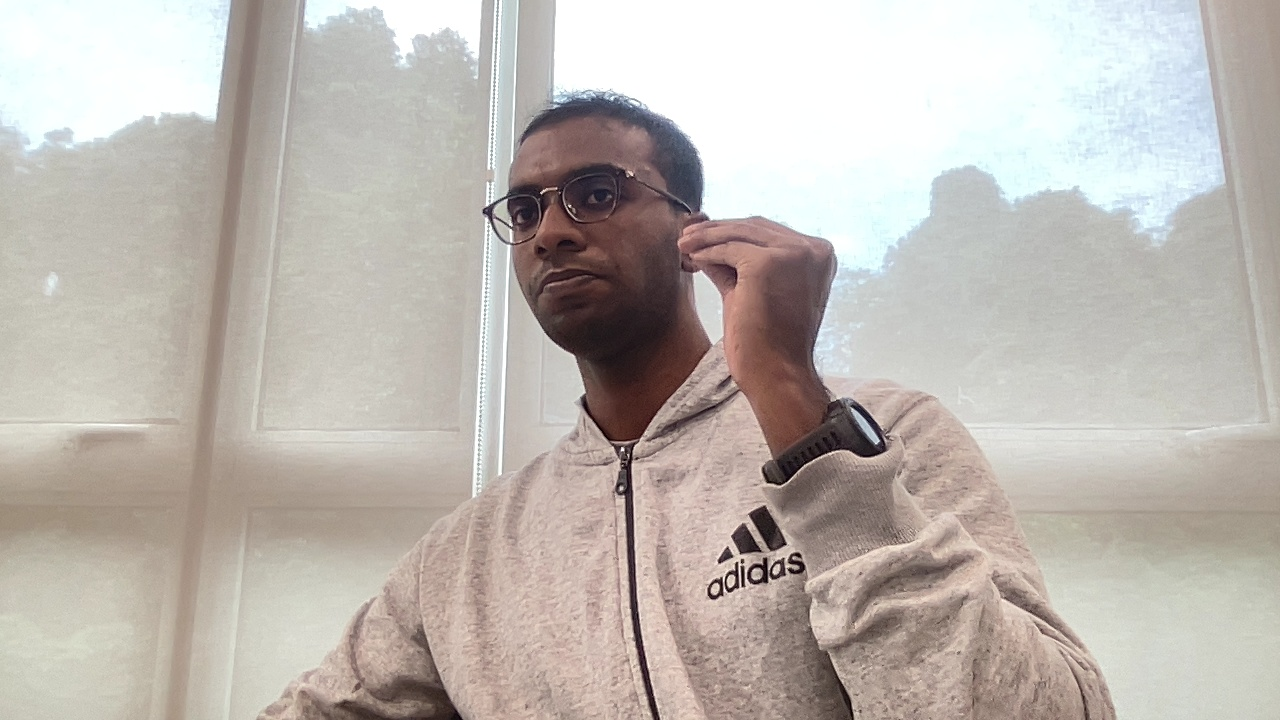eat: (672, 214, 846, 391)
